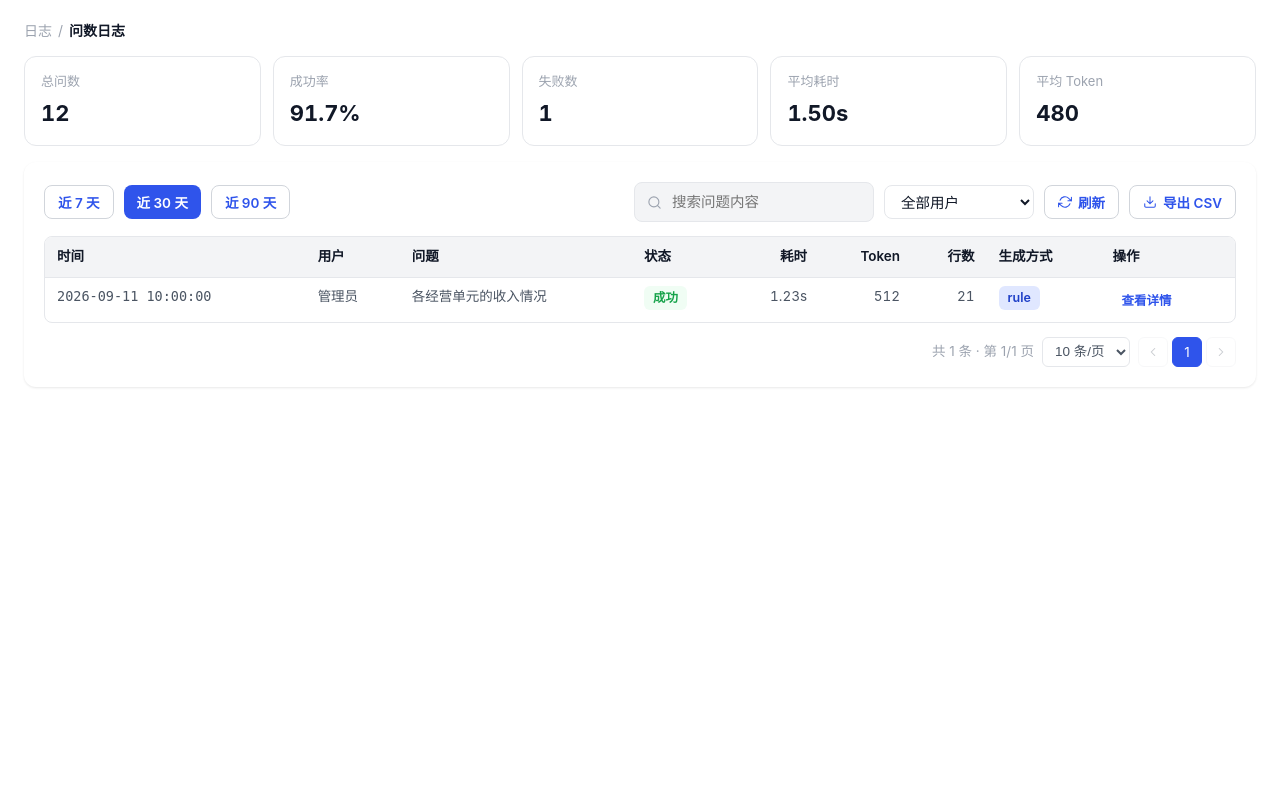
Test case: LogsPage — 详情弹窗 › 点「查看详情」展示 SQL、命中表与指标
Expected: the text "各经营单元的收入情况" is shown, x1=400 y1=278 x2=632 y2=322
What coordinates should you click on to do the following:
click the button "查看详情"
I would click on:
 (1146, 300)
Its box is x1=1112 y1=286 x2=1180 y2=314.
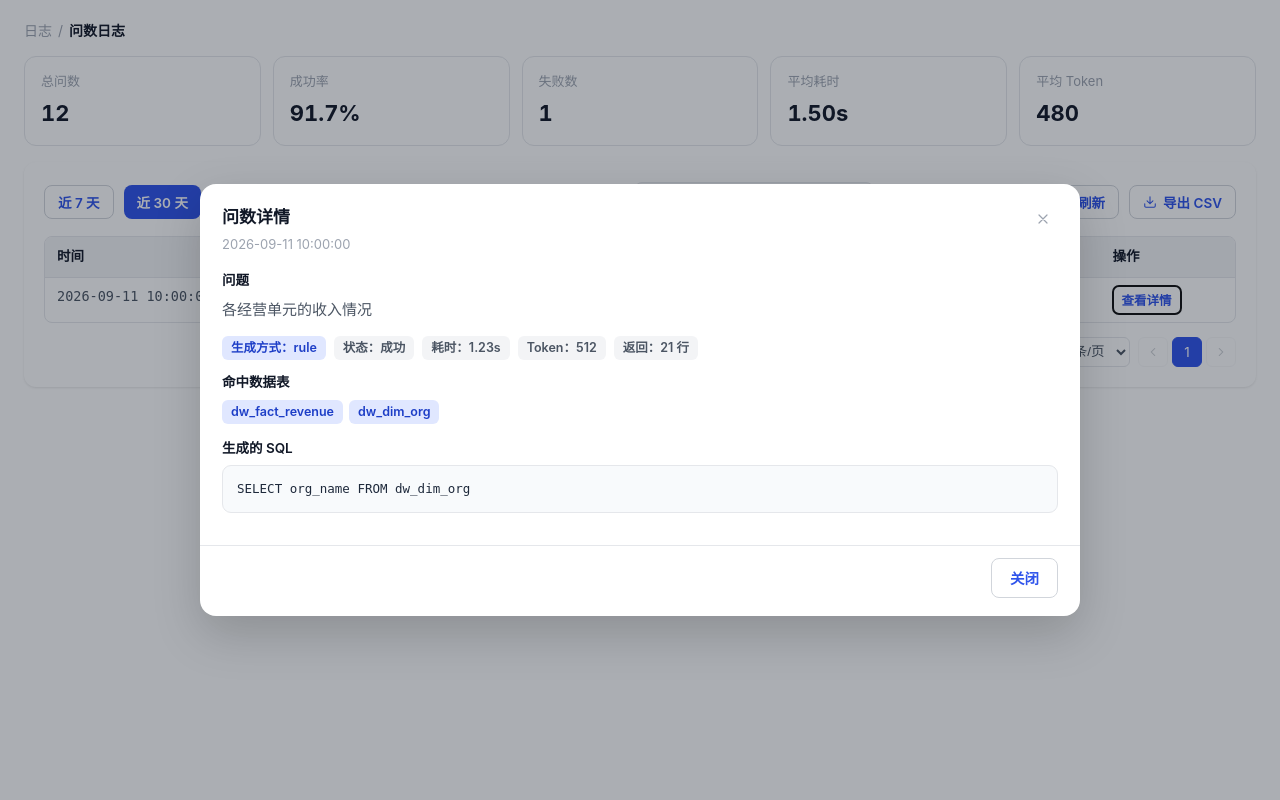
Now the text "SELECT org_name FROM dw_dim_org" is shown, box x1=222 y1=465 x2=1058 y2=513
Now the text "dw_fact_revenue" is shown, box x1=222 y1=400 x2=343 y2=424
Now the text "耗时：1.23s" is shown, box x1=422 y1=336 x2=510 y2=360
